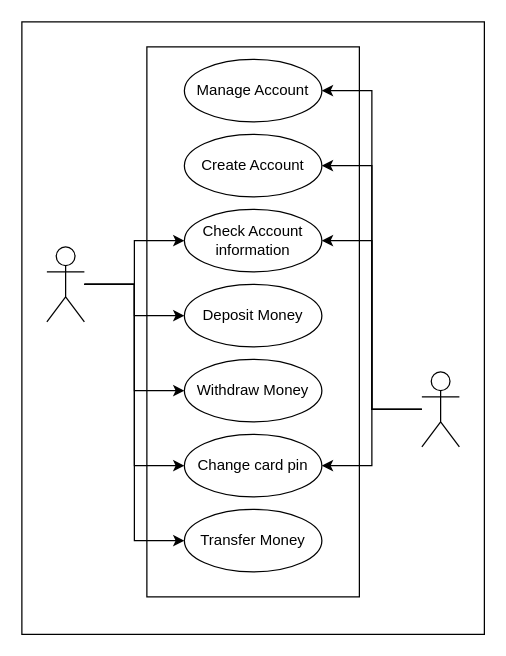
Some shapes in this 506 by 656 pixel diagram are drawn without their labels. The box of each missing label's shape, as (x1, y1, x2, y2) in pixels:
Client: (46, 246, 84, 322)
Manager: (421, 371, 459, 447)
